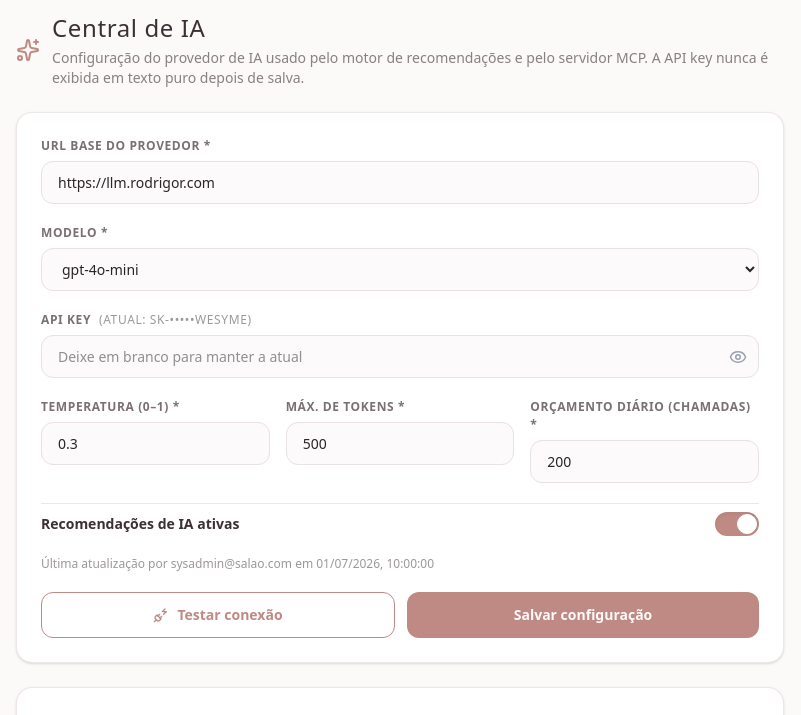
AiConfig page › shows failure feedback when the connection test fails
Click the button "Testar conexão".
click(218, 615)  # box x1=41 y1=592 x2=395 y2=638
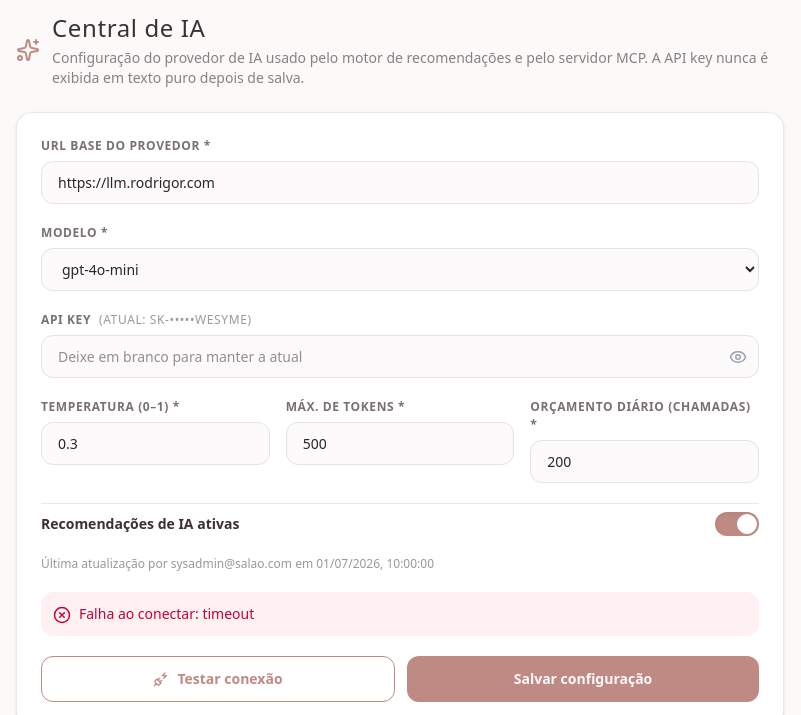
Now the text "Falha ao conectar: timeout" is shown, box x1=79 y1=604 x2=254 y2=624
